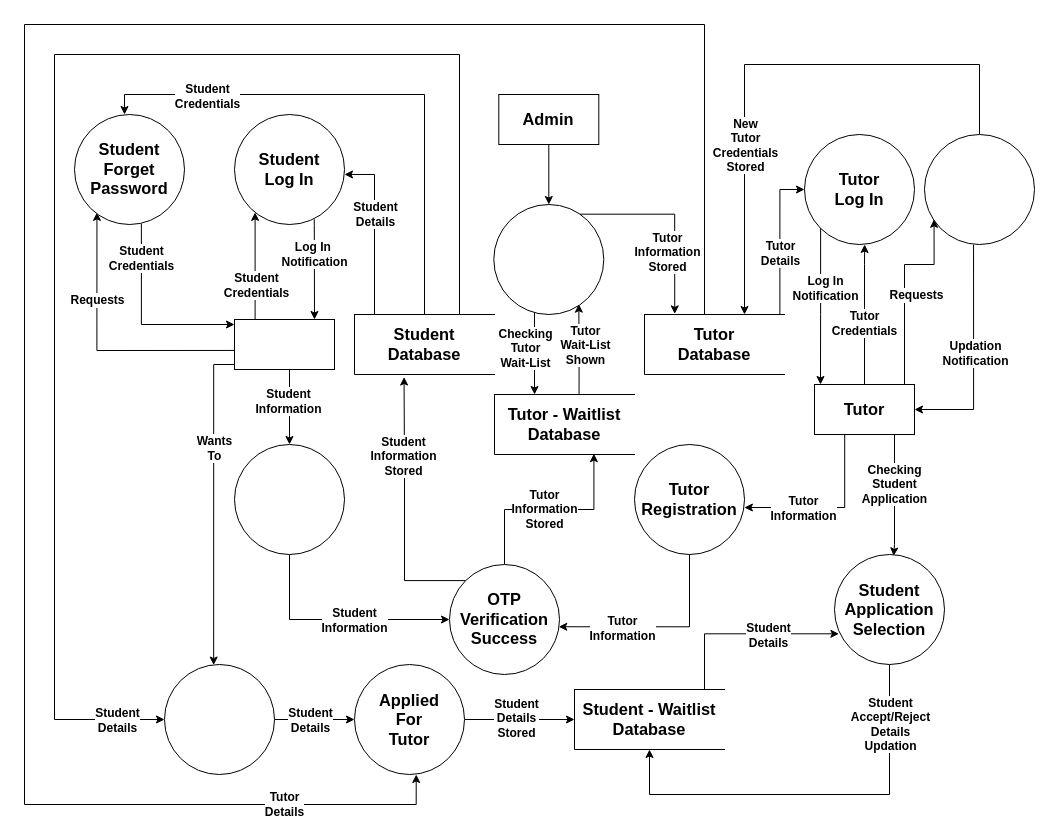
The diagram is 1052 pixels wide and 836 high, and some of its shapes have lost their labels. Here are the shapes that lost their labels. From the top down, the centre of each, then its label:
the point at 979,189: Tutor Reset Password
the point at 548,259: Admin Approval
the point at 284,344: Student
the point at 289,499: Student Registration
the point at 219,719: Search For Tutor
